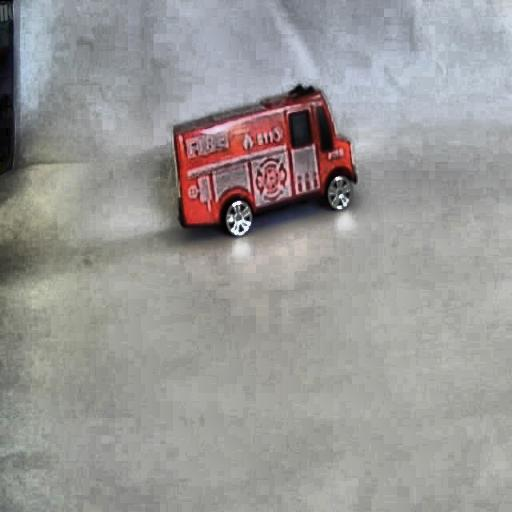fire_truck: (168, 80, 361, 244)
